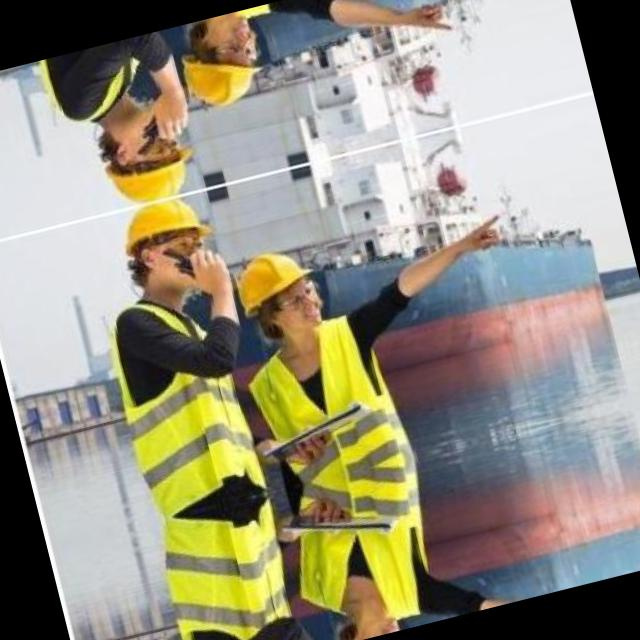helmet: (220, 228, 336, 359), (165, 7, 279, 128), (82, 102, 204, 215), (104, 188, 225, 301), (311, 595, 408, 640)
